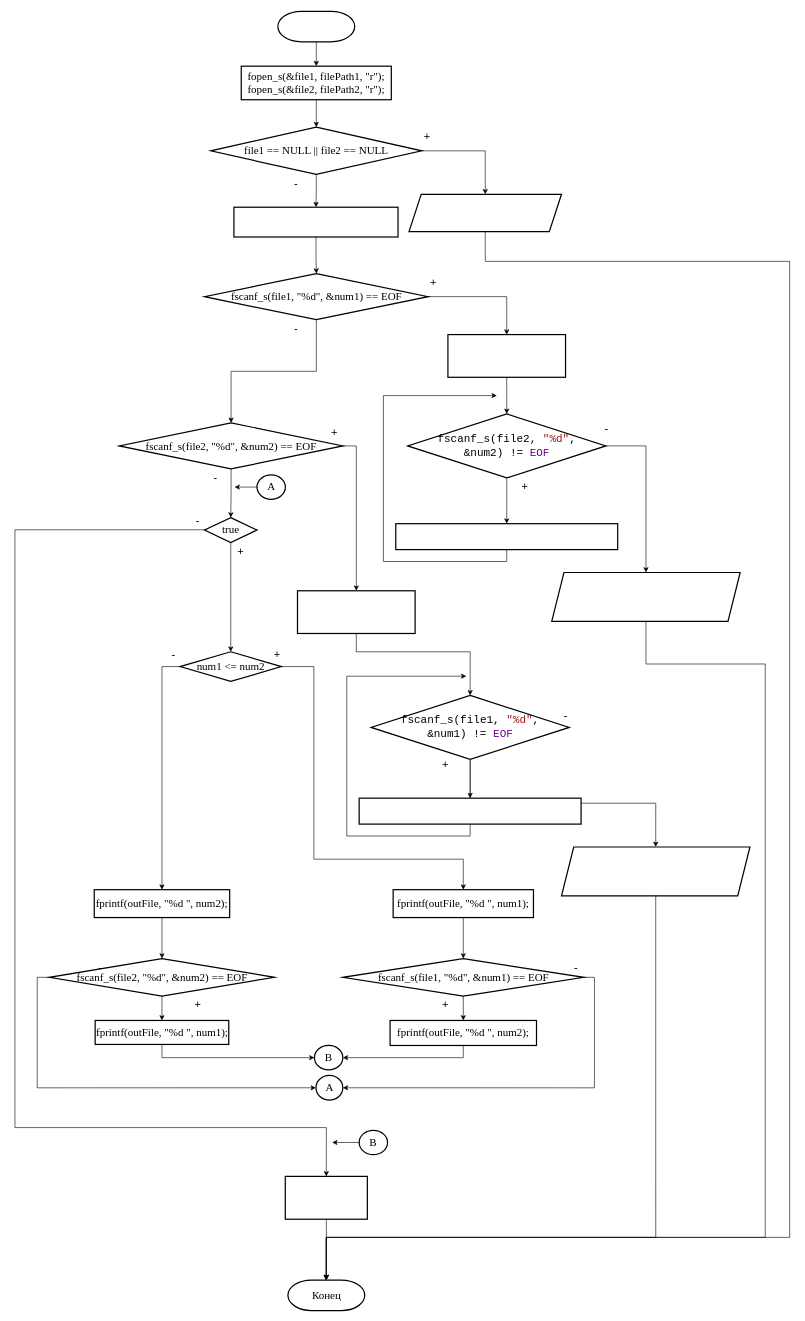
The diagram is 805 pixels wide and 1321 high, and some of its shapes have lost their labels. Here are the shapes that lost their labels. From the top down, the centre of each, then its label:
(x=316, y=26): Начало
(x=315, y=221): fopen_s(&outFile, filePath3, "w"); int num1, num2;
(x=485, y=212): cout << "Ошибка открытия отдельных файлов!" << endl;
(x=506, y=356): fclose(file2); fopen_s(&file2, filePath2 , "r" );
(x=506, y=536): fprintf_s(outFile, "%d\t" , num2);
(x=356, y=612): fclose(file1); fopen_s(&file1, filePath1 , "r" );
(x=645, y=597): cout << "Данные из 2 файла записаны в общий файл!" << endl;
(x=469, y=810): fprintf_s(outFile, "%d\t" , num1);
(x=655, y=871): cout << "Данные из 1 файла записаны в общий файл!" << endl;
(x=326, y=1197): fclose(file1); fclose(file2); fclose(outFile);
